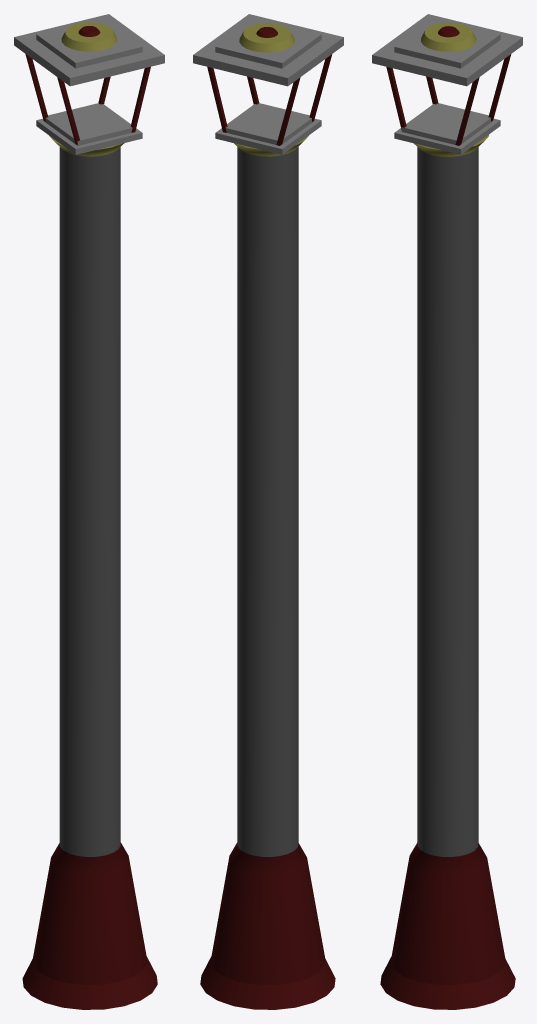
The model's file is Lamp.fbx.
3 views of the same model, side by side, from view 1: azimuth 30°, elevation 25°; view 2: azimuth 150°, elevation 25°; view 3: azimuth 330°, elevation 25° (orthographic).
Visible parts, largest first — view 1: pCylinder1, pCube8, pCube2, pCube9, pCylinder3, pCube1, pCube7, pCube3, pCube4; view 2: pCylinder1, pCube8, pCube2, pCube9, pCylinder3, pCube1, pCube6, pCube4, pCube3; view 3: pCylinder1, pCube8, pCube2, pCube9, pCylinder3, pCube1, pCube7, pCube3, pCube6.
Boxes of the visible parts, x1,y1,x2,y2 form: pCylinder1: (22,136,157,1009); pCube8: (14,14,164,86); pCube2: (44,103,132,145); pCube9: (36,18,142,68); pCylinder3: (61,22,117,51); pCube1: (36,118,142,154); pCube7: (130,66,150,132); pCube3: (57,77,79,144); pCube4: (25,54,48,121); pCylinder1: (200,135,335,1009); pCube8: (193,14,343,86); pCube2: (225,103,313,145); pCube9: (215,18,321,68); pCylinder3: (239,23,295,52); pCube1: (215,118,321,154); pCube6: (207,67,227,132); pCube4: (276,77,300,145); pCube3: (309,52,332,121); pCylinder1: (380,134,515,1009); pCube8: (372,14,522,86); pCube2: (401,103,493,144); pCube9: (394,18,500,68); pCylinder3: (421,22,476,51); pCube1: (394,118,500,154); pCube7: (455,77,479,145); pCube3: (386,67,406,129); pCube6: (488,54,511,121).
Bounding box in the file's own units: 1.92 × 14.81 × 1.92.
